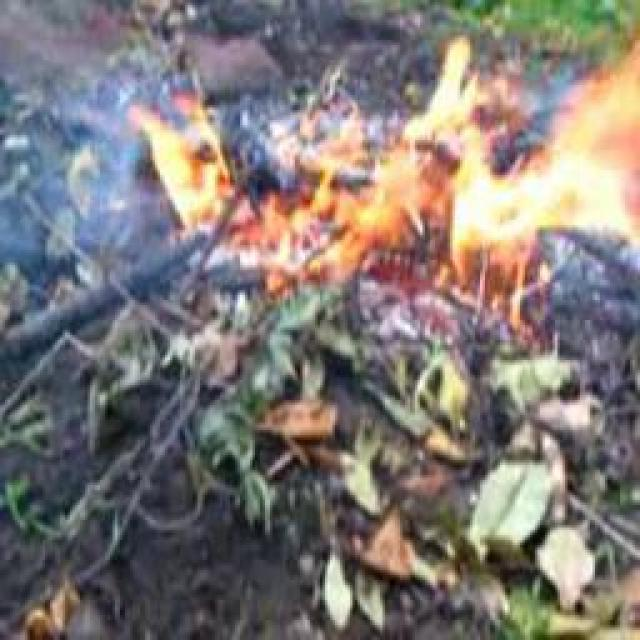Fire: (404, 49, 638, 254), (130, 98, 404, 268)
